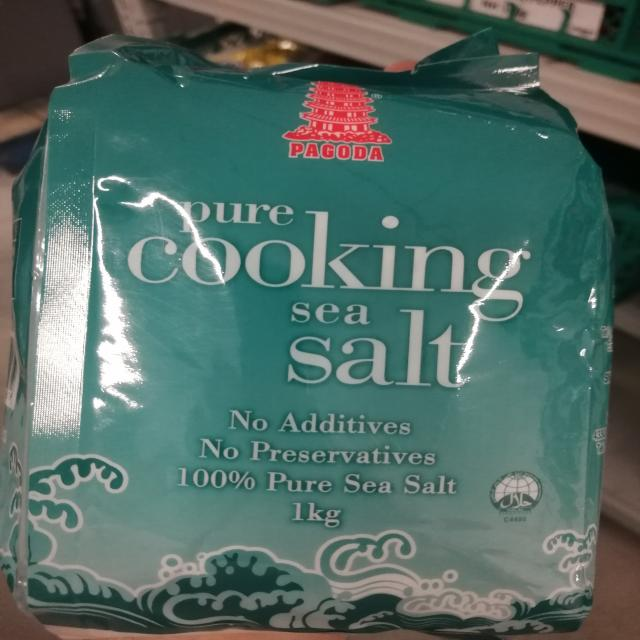object_name: (44, 69, 583, 621)
